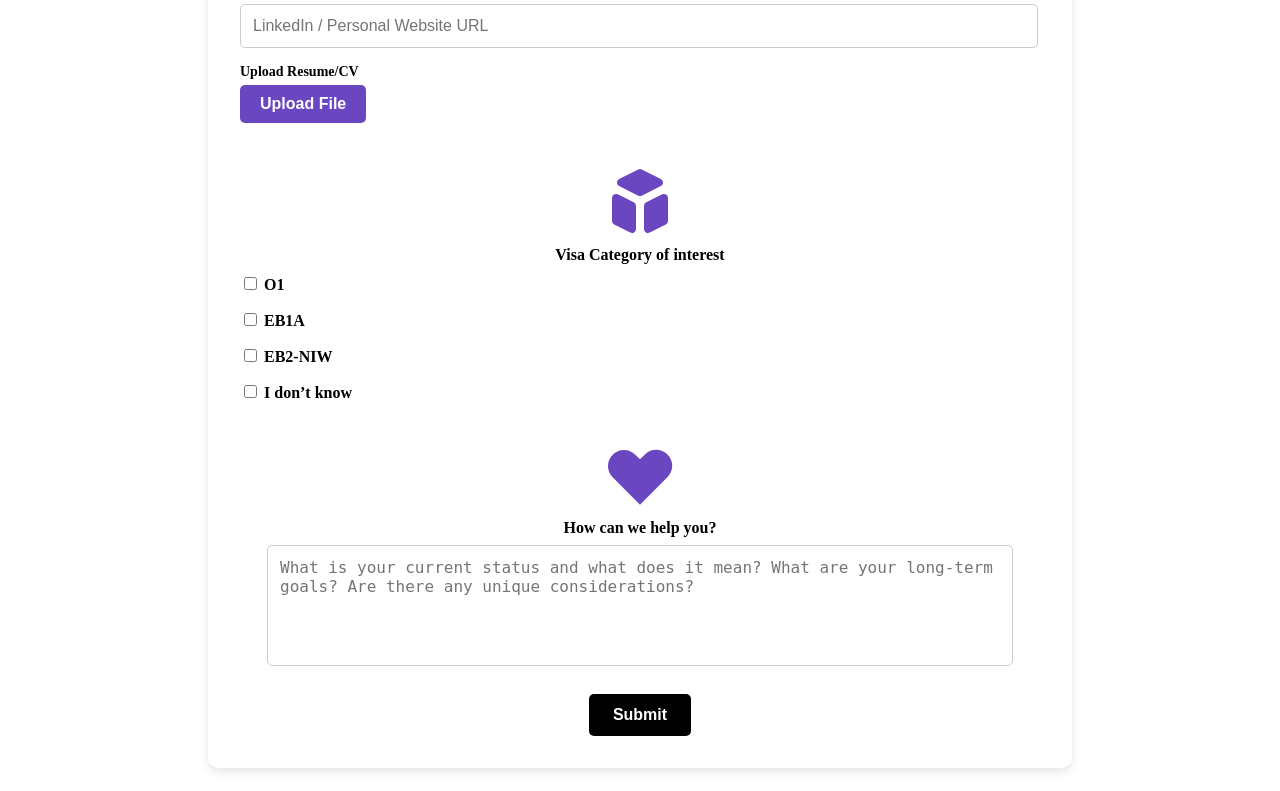
Test: PublicLeadForm › displays error messages for empty required fields
This screenshot has width=1280, height=791.
(page scrolled)
Click the button "Submit" at (640, 716), box left=589, top=694, right=691, bottom=736
(page scrolled)
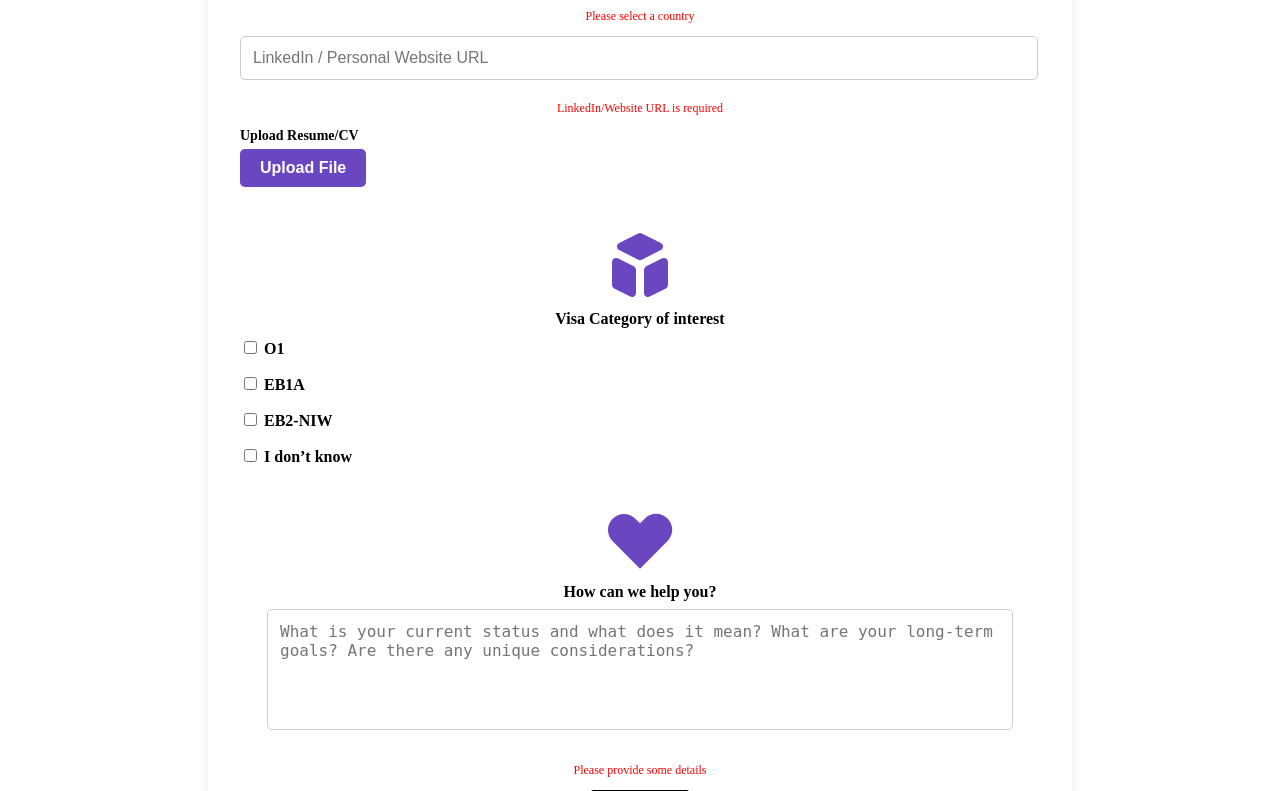
Now the text "Please select a country" is shown, box left=586, top=10, right=694, bottom=24
Now the text "LinkedIn/Website URL is required" is shown, box left=557, top=102, right=723, bottom=116
Now the text "Please provide some details" is shown, box left=574, top=764, right=706, bottom=778
